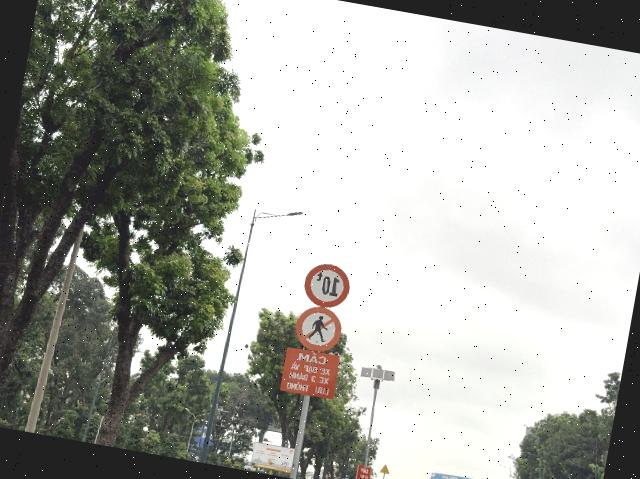cam-nguoi-di-bo: (292, 303, 345, 355)
han-che-trong-luong-xe: (300, 260, 352, 311)
